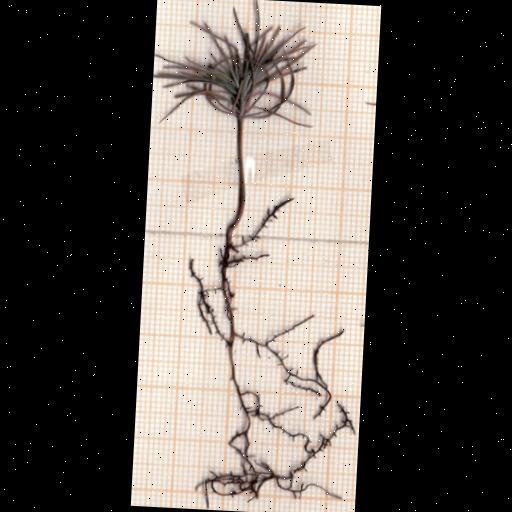flowerCedr: (154, 1, 316, 129)
rootCedr: (190, 237, 352, 507)
stemCedr: (230, 118, 247, 238)
